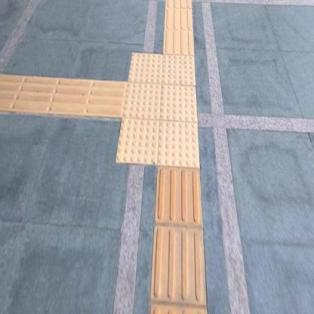Podoctatil: (105, 35, 214, 188), (151, 170, 208, 313), (0, 75, 122, 119), (162, 0, 194, 54)
